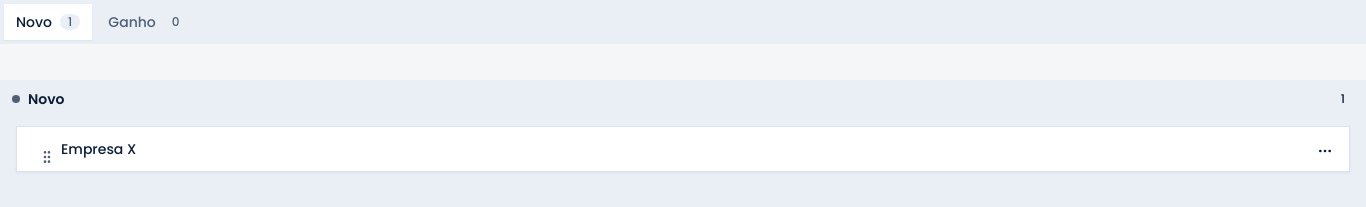
Test: Kanban › no celular, com dropTargets a alça (toque) solta no destino e remove o card da tela
Press the mouse on the button named "Arrastar Empresa X" at (47, 157), box [25,135,69,179]
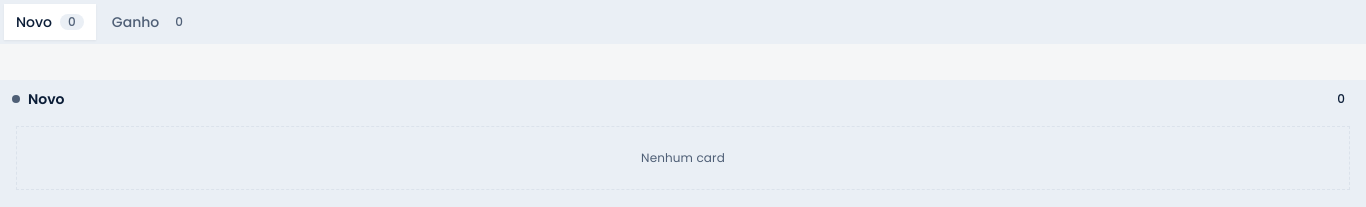
Expected: the text "Empresa X" is gone
